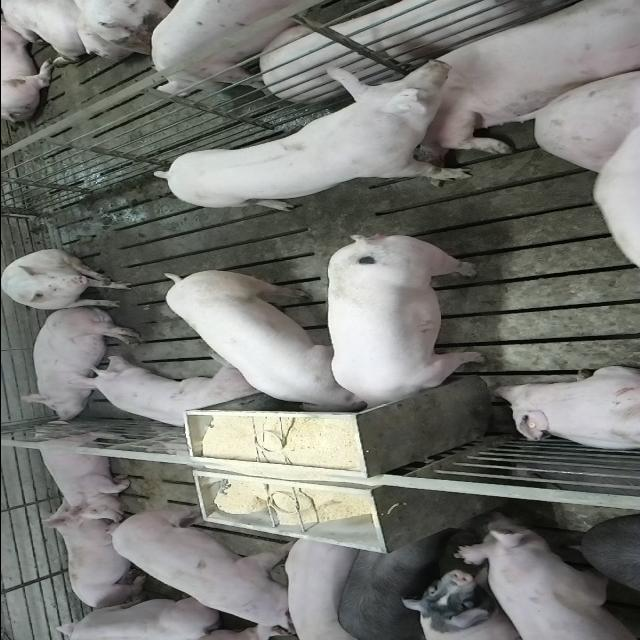Feeding: (160, 264, 362, 412), (324, 240, 486, 418)
Lateral_lying: (16, 306, 140, 422)
Sitting: (2, 250, 134, 312)
Standing: (156, 60, 486, 212), (103, 509, 304, 630), (451, 512, 640, 637), (151, 0, 351, 94), (333, 527, 458, 639), (277, 526, 363, 639), (570, 517, 638, 603)
Sternal_lying: (368, 0, 634, 148), (70, 357, 260, 433), (490, 365, 640, 453), (40, 505, 153, 612), (32, 426, 133, 518)
